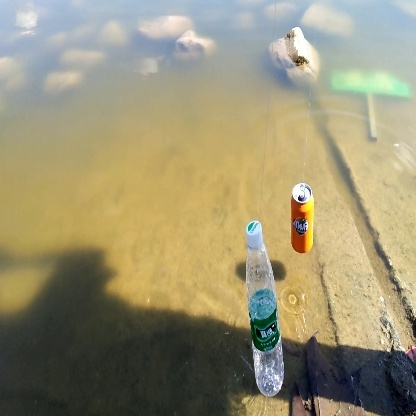bottle: (240, 220, 289, 398), (289, 182, 316, 253)
